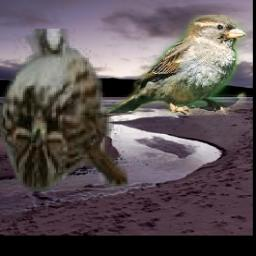Sparrow: (0, 29, 130, 191), (106, 16, 247, 116)
